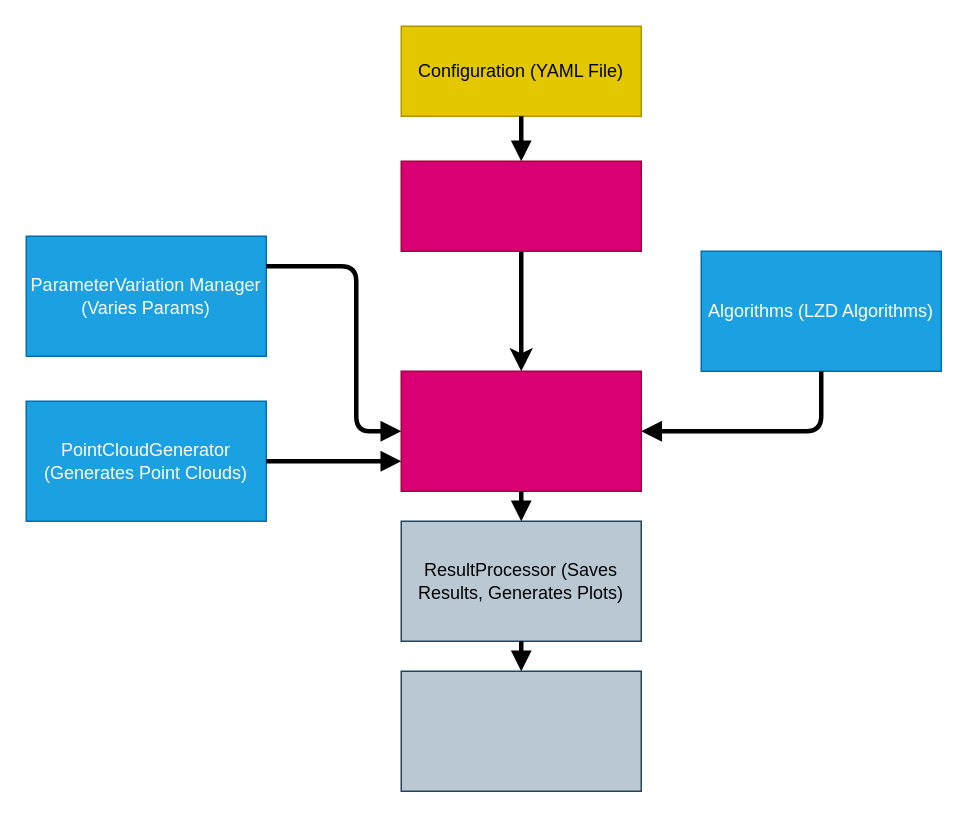
The diagram is 968 pixels wide and 818 high, and some of its shapes have lost their labels. The box of each missing label's shape, as (x1, y1, x2, y2) in pixels:
Main (Orchestrates Simulation): (400, 160, 641, 251)
Output Files (CSV, Python Scripts, Plots): (400, 670, 641, 791)
SimulationRunner (Runs Simulations): (400, 370, 641, 491)
